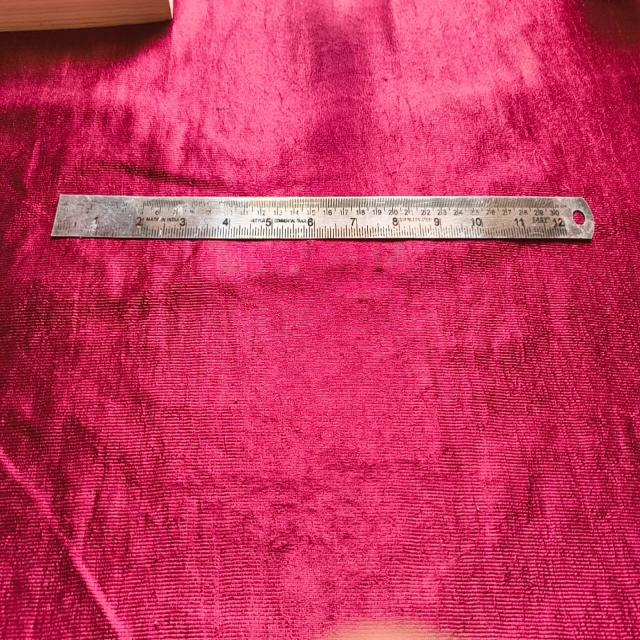scale: (50, 194, 592, 239)
